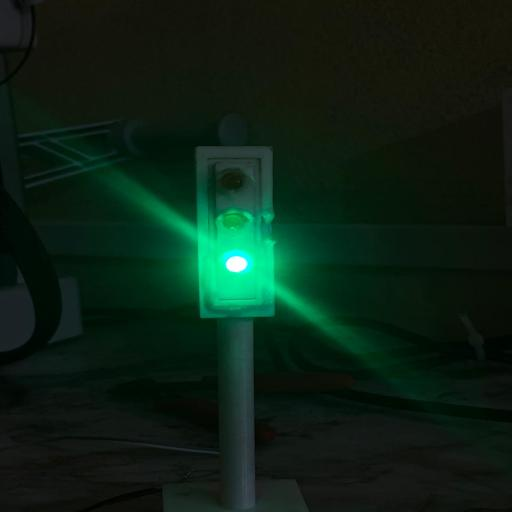Green Light: (226, 256, 247, 272)
